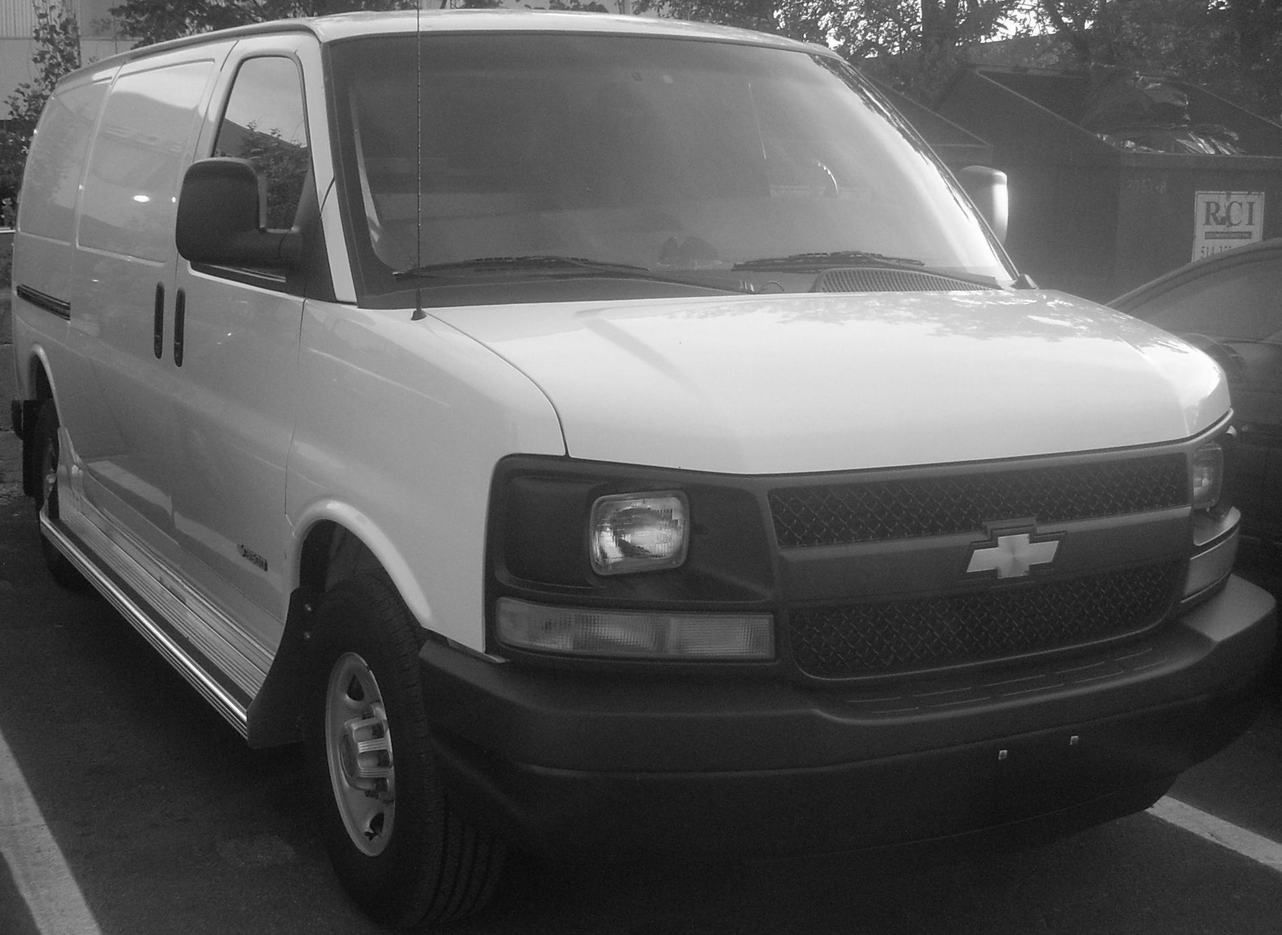car: (17, 5, 1280, 924)
